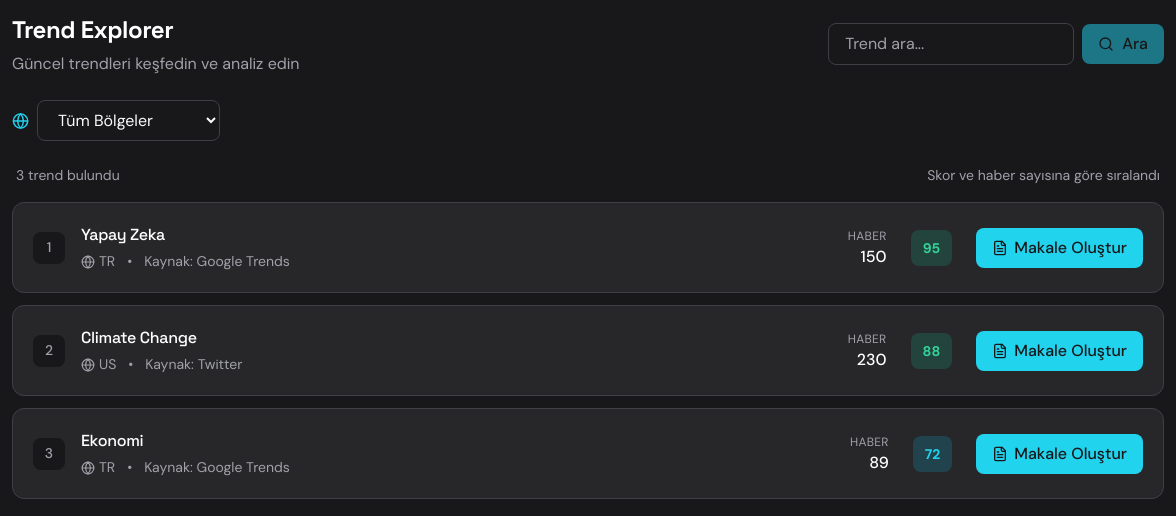
TrendExplorer › Search functionality › shows empty state when search has no results
Expected: the heading "Yapay Zeka" is shown, [81,224,165,245]
Type "nonexistent" into the field labelled "Trend ara". click: (951, 44)
box: [828,23,1074,65]
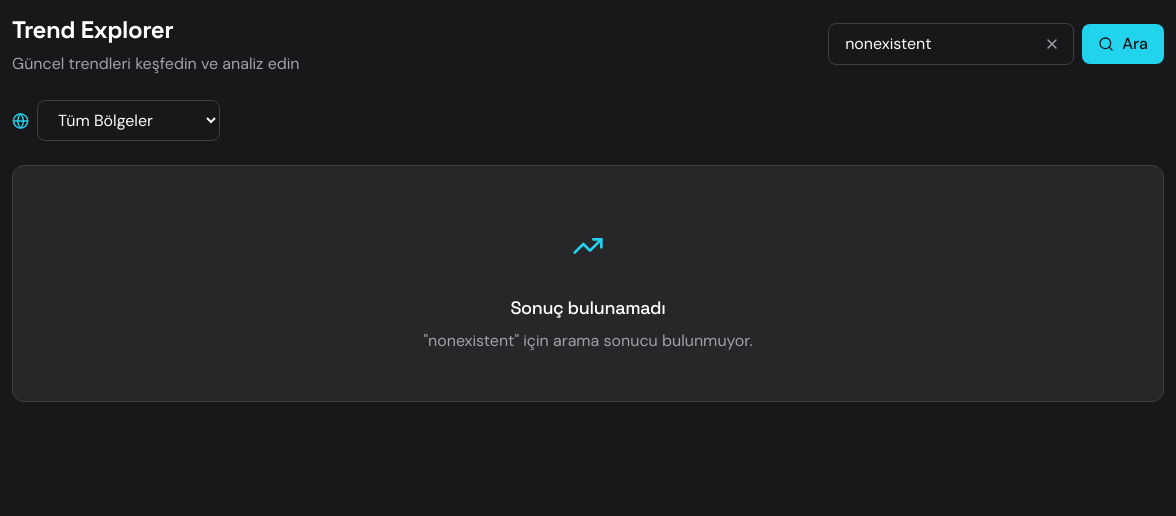
Now the heading "Sonuç bulunamadı" is shown, box [510,296,666,319]
